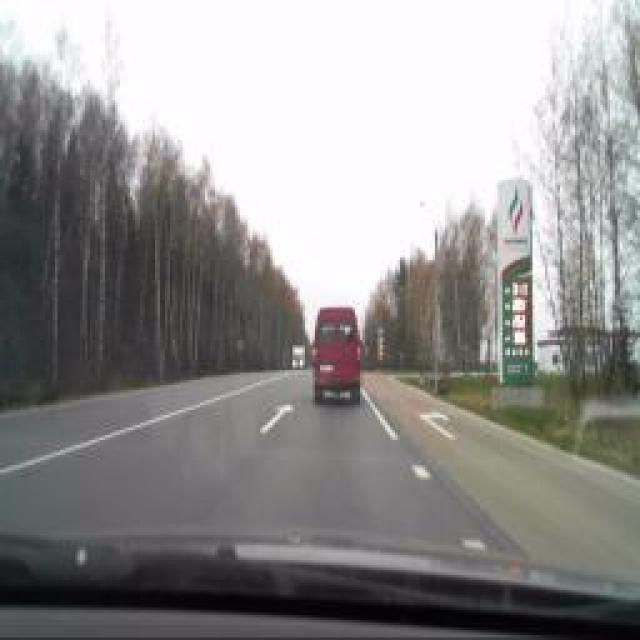sign: (376, 322, 384, 338)
